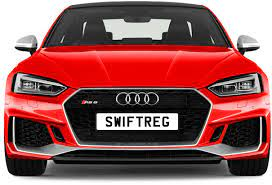number_plate: (88, 109, 192, 137)
